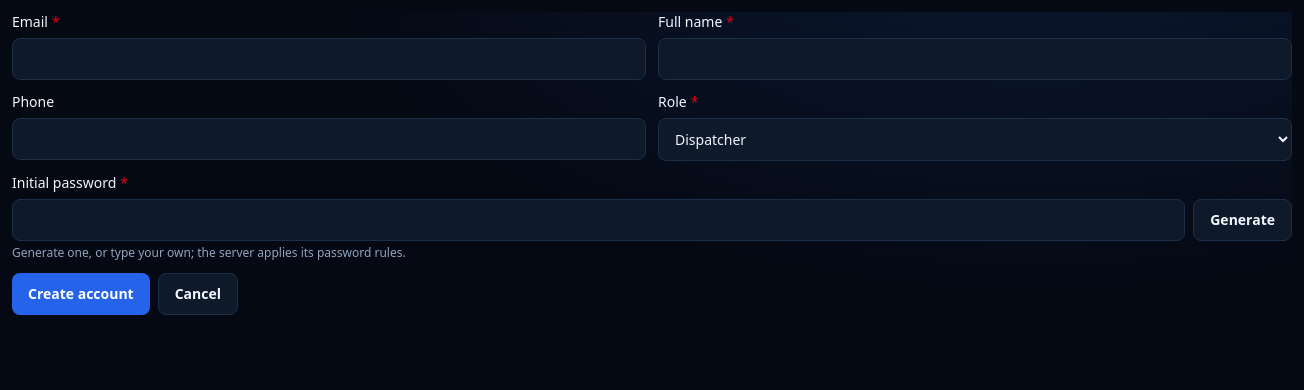
Test case: UserCreateForm › surfaces a weak-password or duplicate refusal from the server
The image size is (1304, 390).
Type "new@example.com" into the field labelled "Email*".
click(329, 59); type("new@example.com")  # box [12,38,646,80]
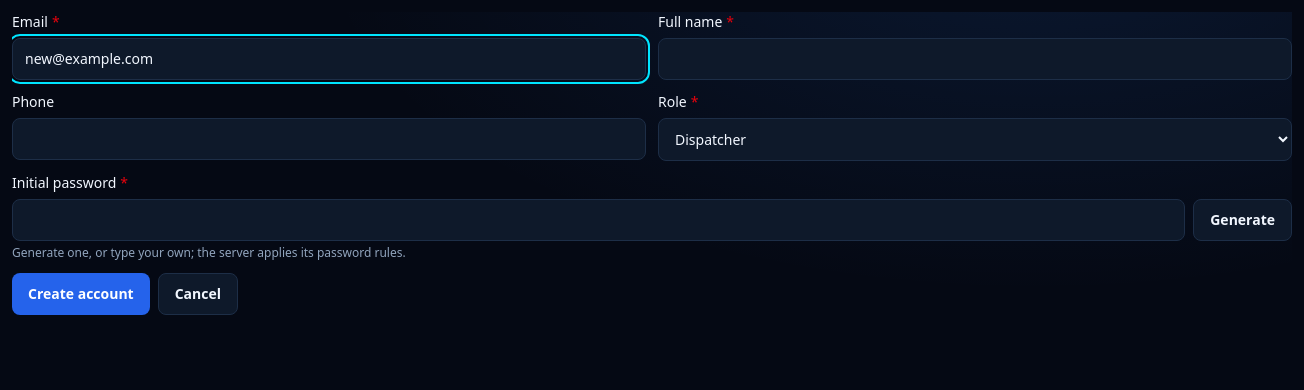
Type "New Operator" into the field labelled "Full name*".
click(975, 59); type("New Operator")  # box [658,38,1292,80]
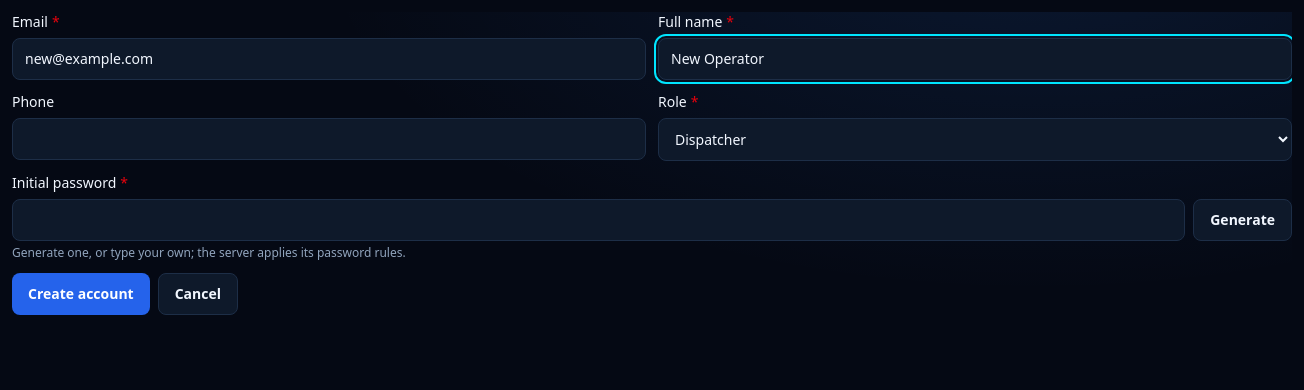
Type "short" into the field labelled "Initial password".
click(599, 220); type("short")  # box [12,199,1185,241]
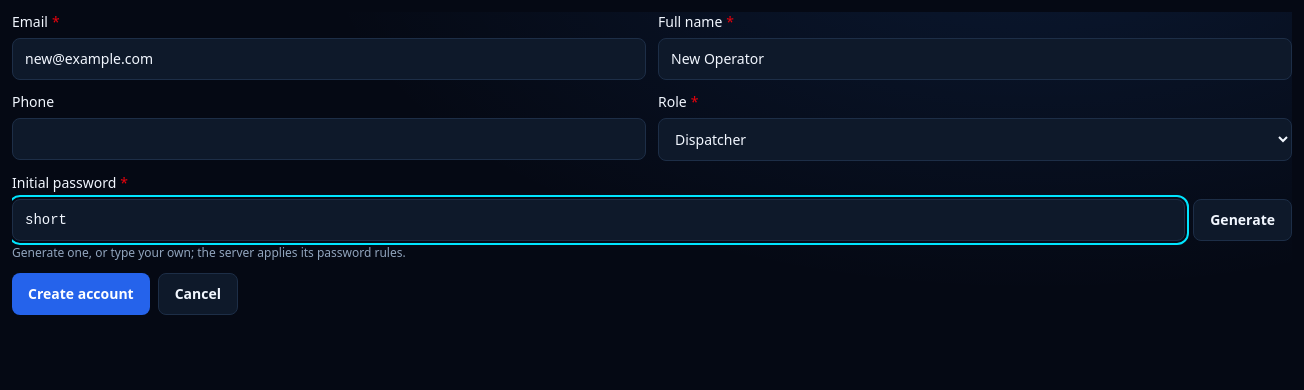
Click the button "Create account".
click(81, 294)  # box [12,273,150,315]
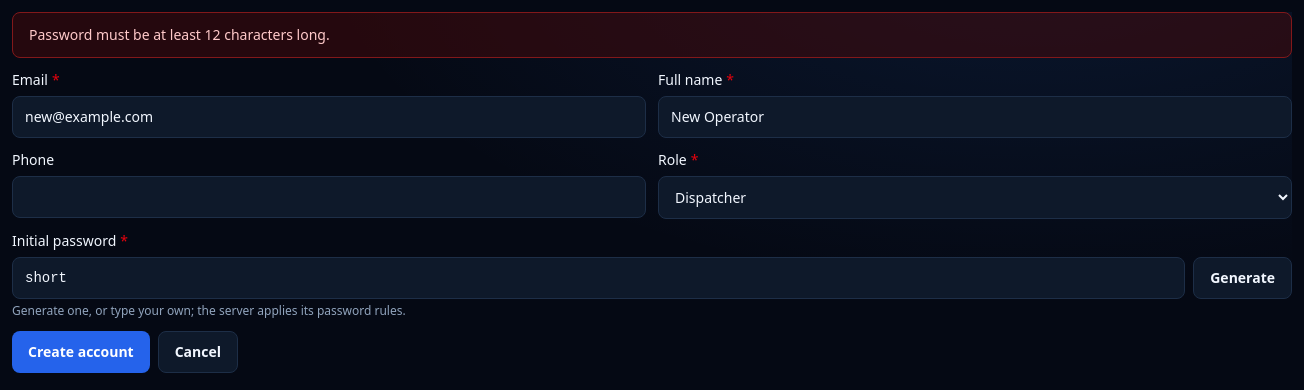
Now the message shows "at least 12 characters", box [29,25,330,44]
